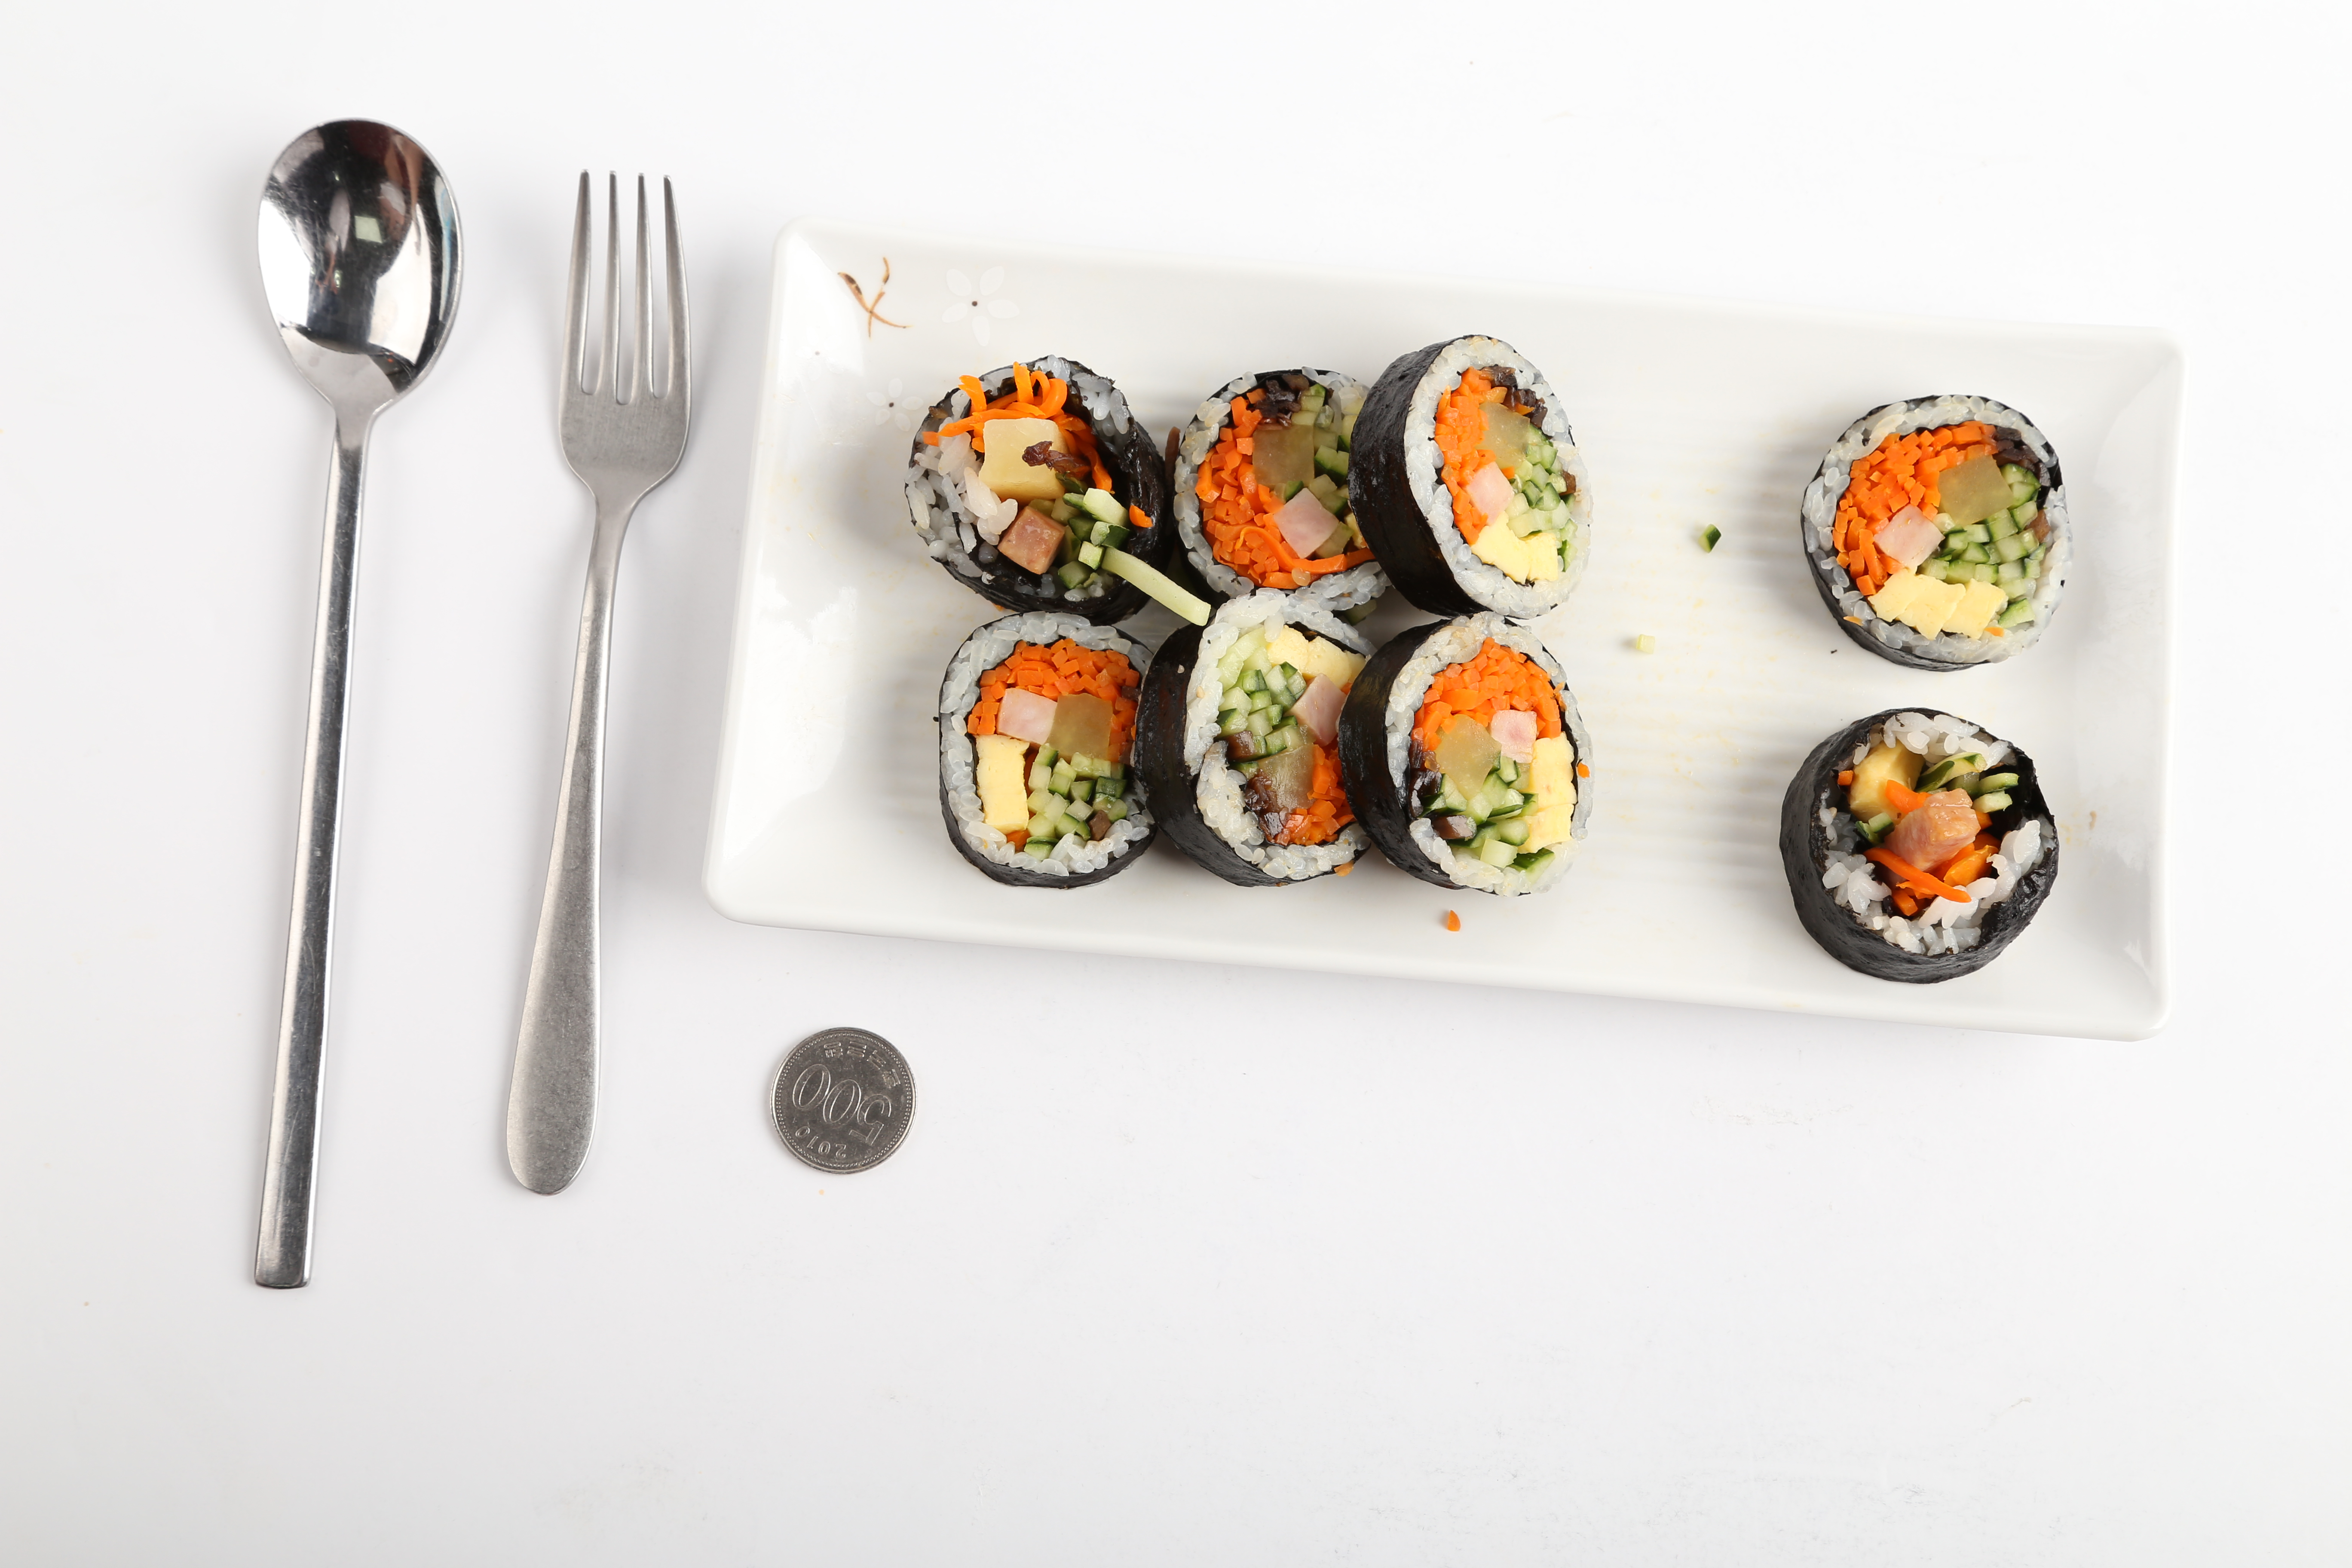dish: (695, 222, 2179, 1039)
ref_coin: (759, 1018, 924, 1178)
ref_fork: (551, 163, 696, 544)
ref_spoon: (254, 115, 465, 462)
김밥: (896, 327, 2072, 985)
